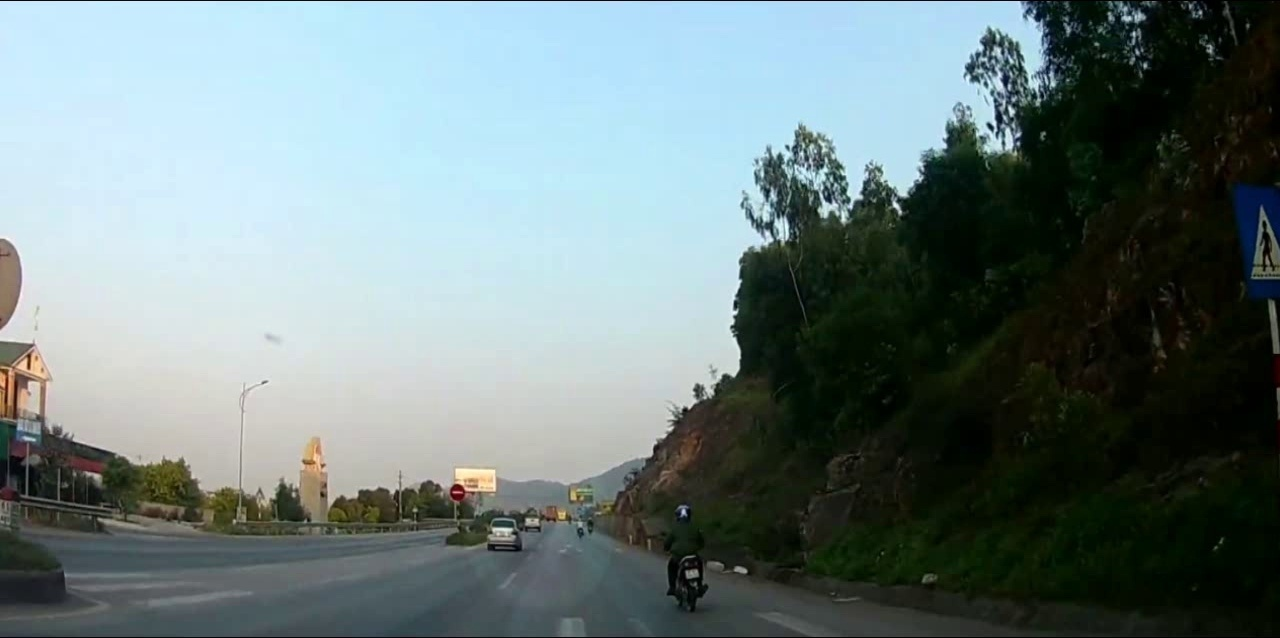Cam di nguoc chieu: (448, 482, 464, 503)
Nguoi di bo: (1232, 182, 1280, 298)
